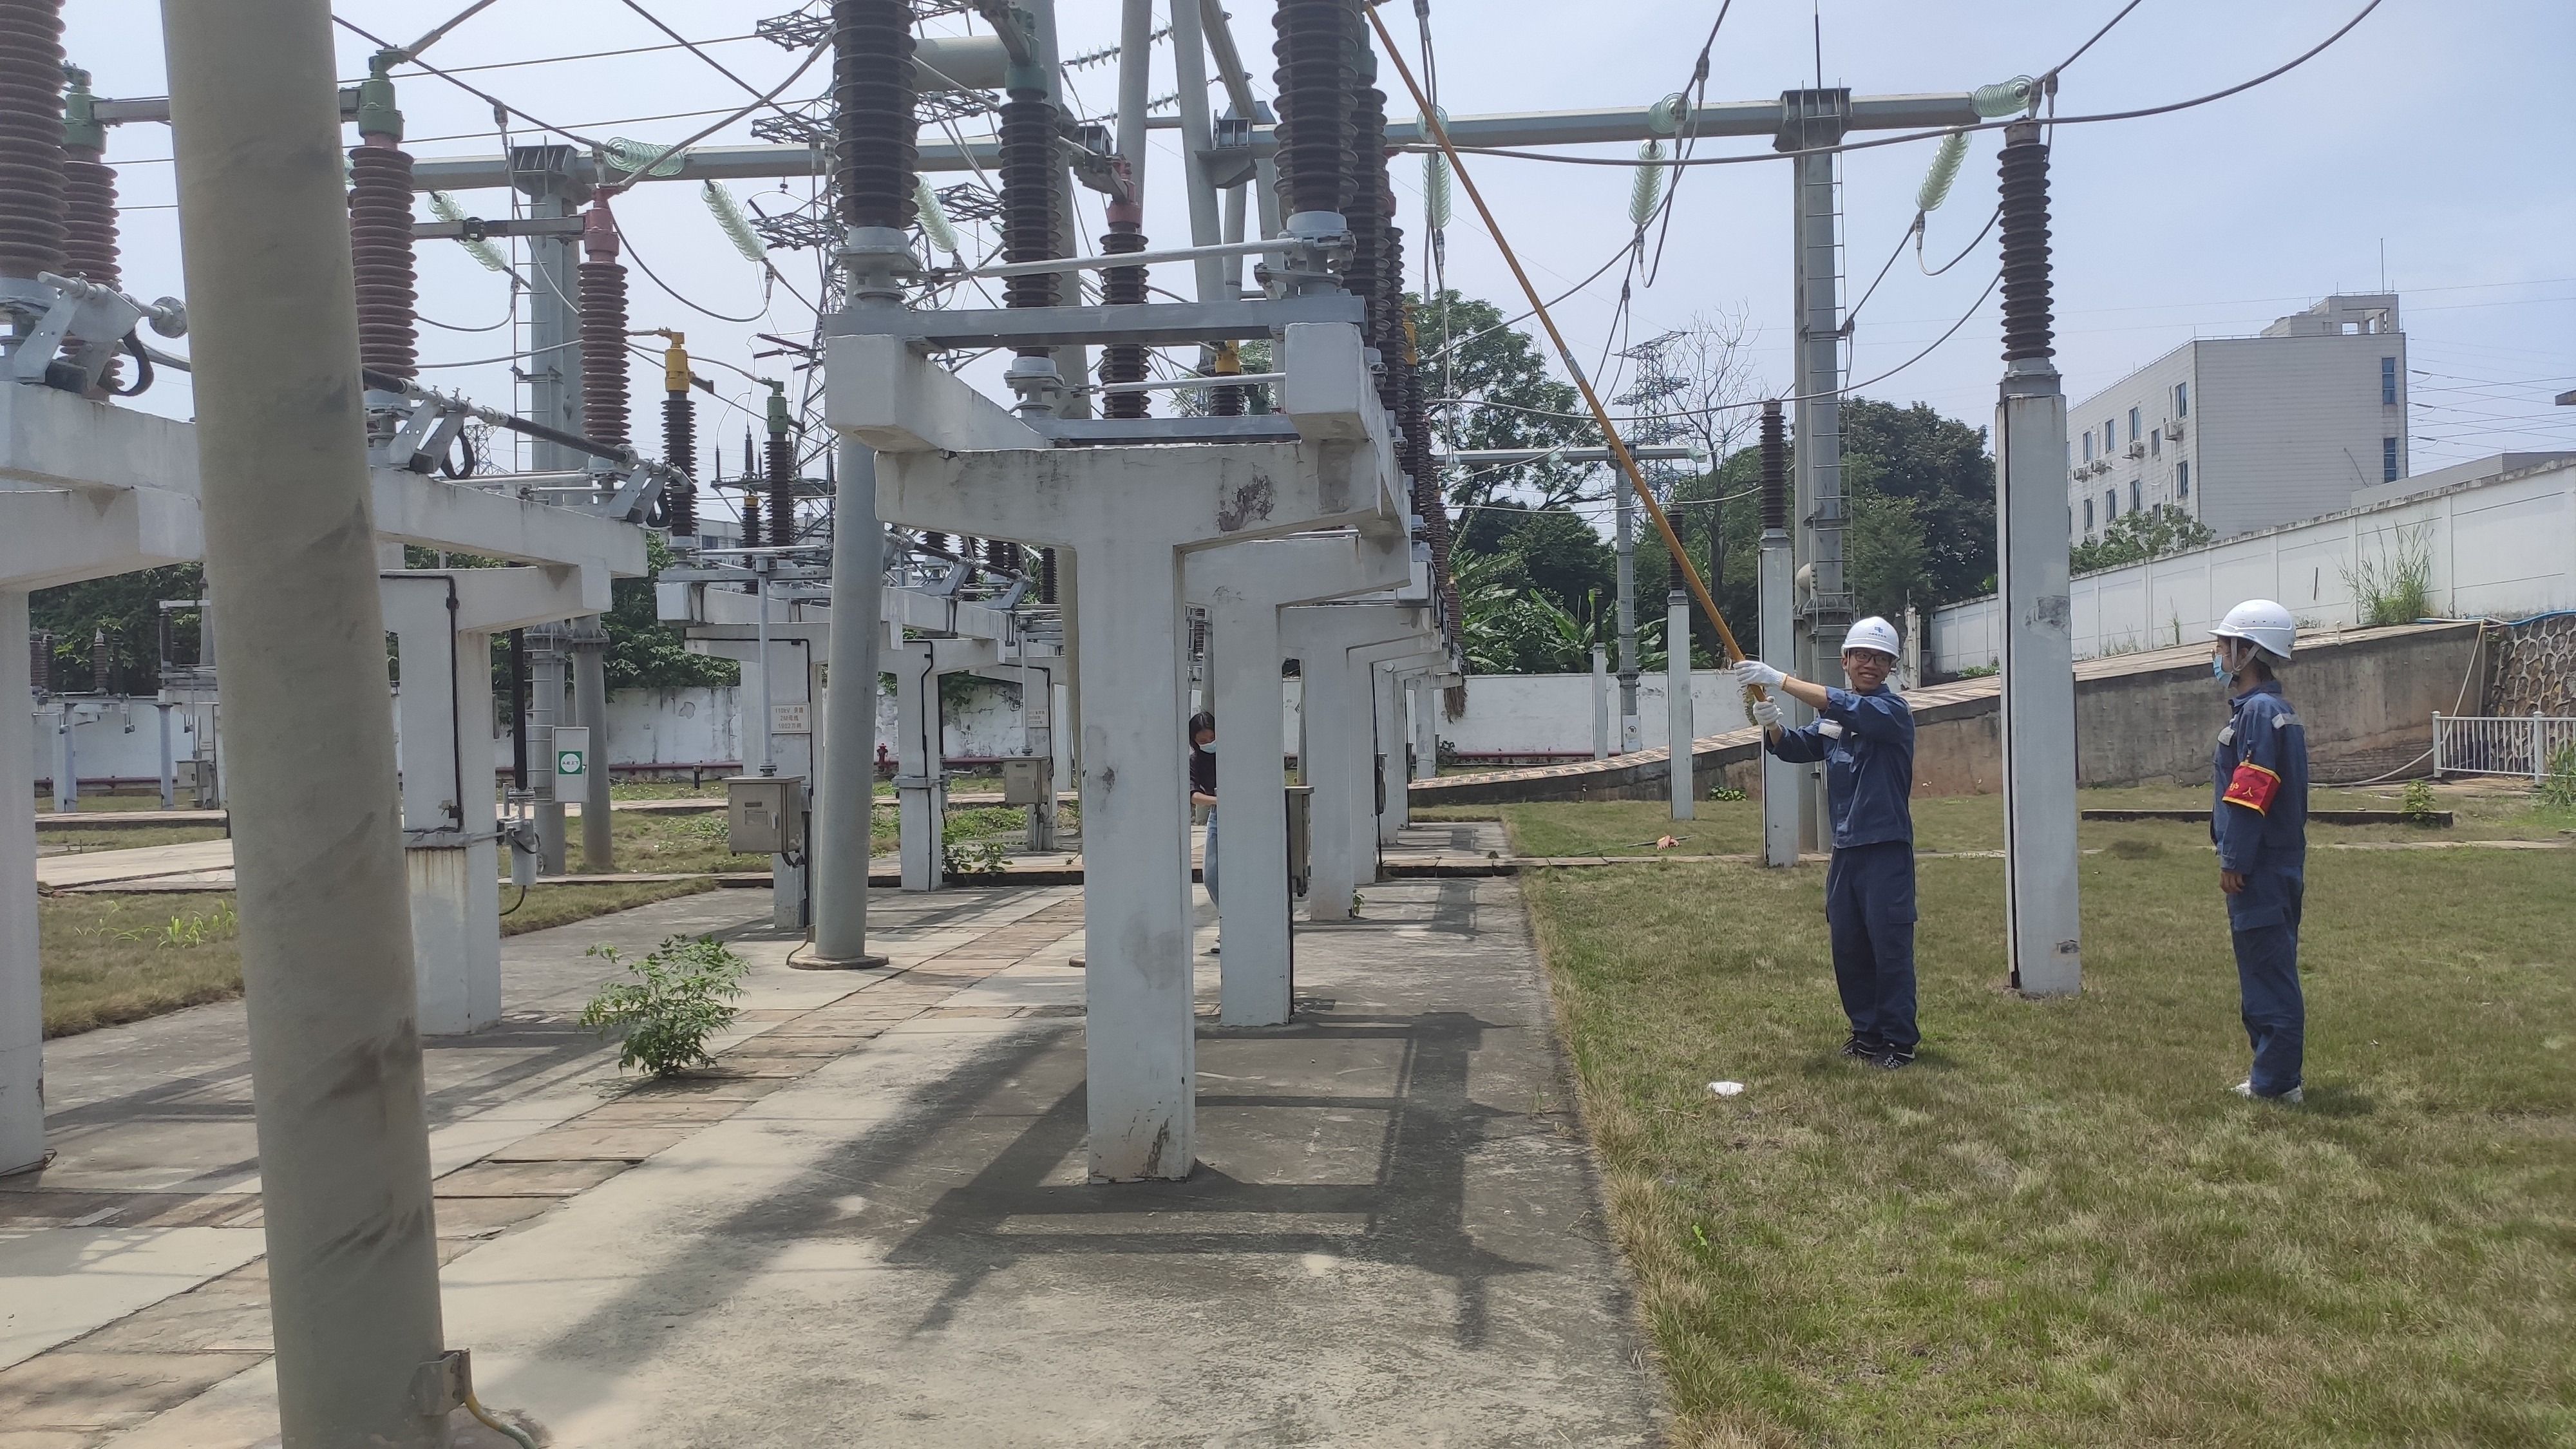downsuit: (1828, 853, 1923, 1047), (2226, 876, 2312, 1090)
upsuit: (1798, 683, 1923, 847), (2210, 686, 2312, 872)
wrongtop: (1778, 672, 1854, 718)
